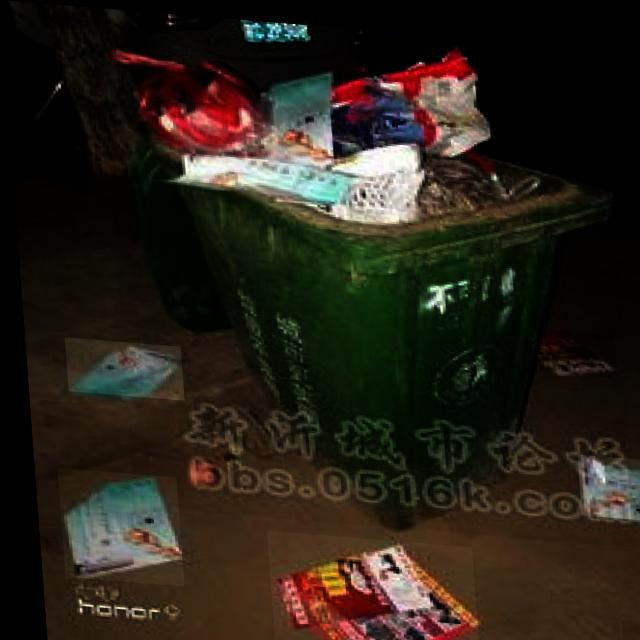garbage: (259, 527, 471, 640), (50, 468, 175, 584), (60, 337, 179, 398), (571, 445, 640, 512), (532, 319, 613, 368)
overflow: (99, 17, 632, 538)
